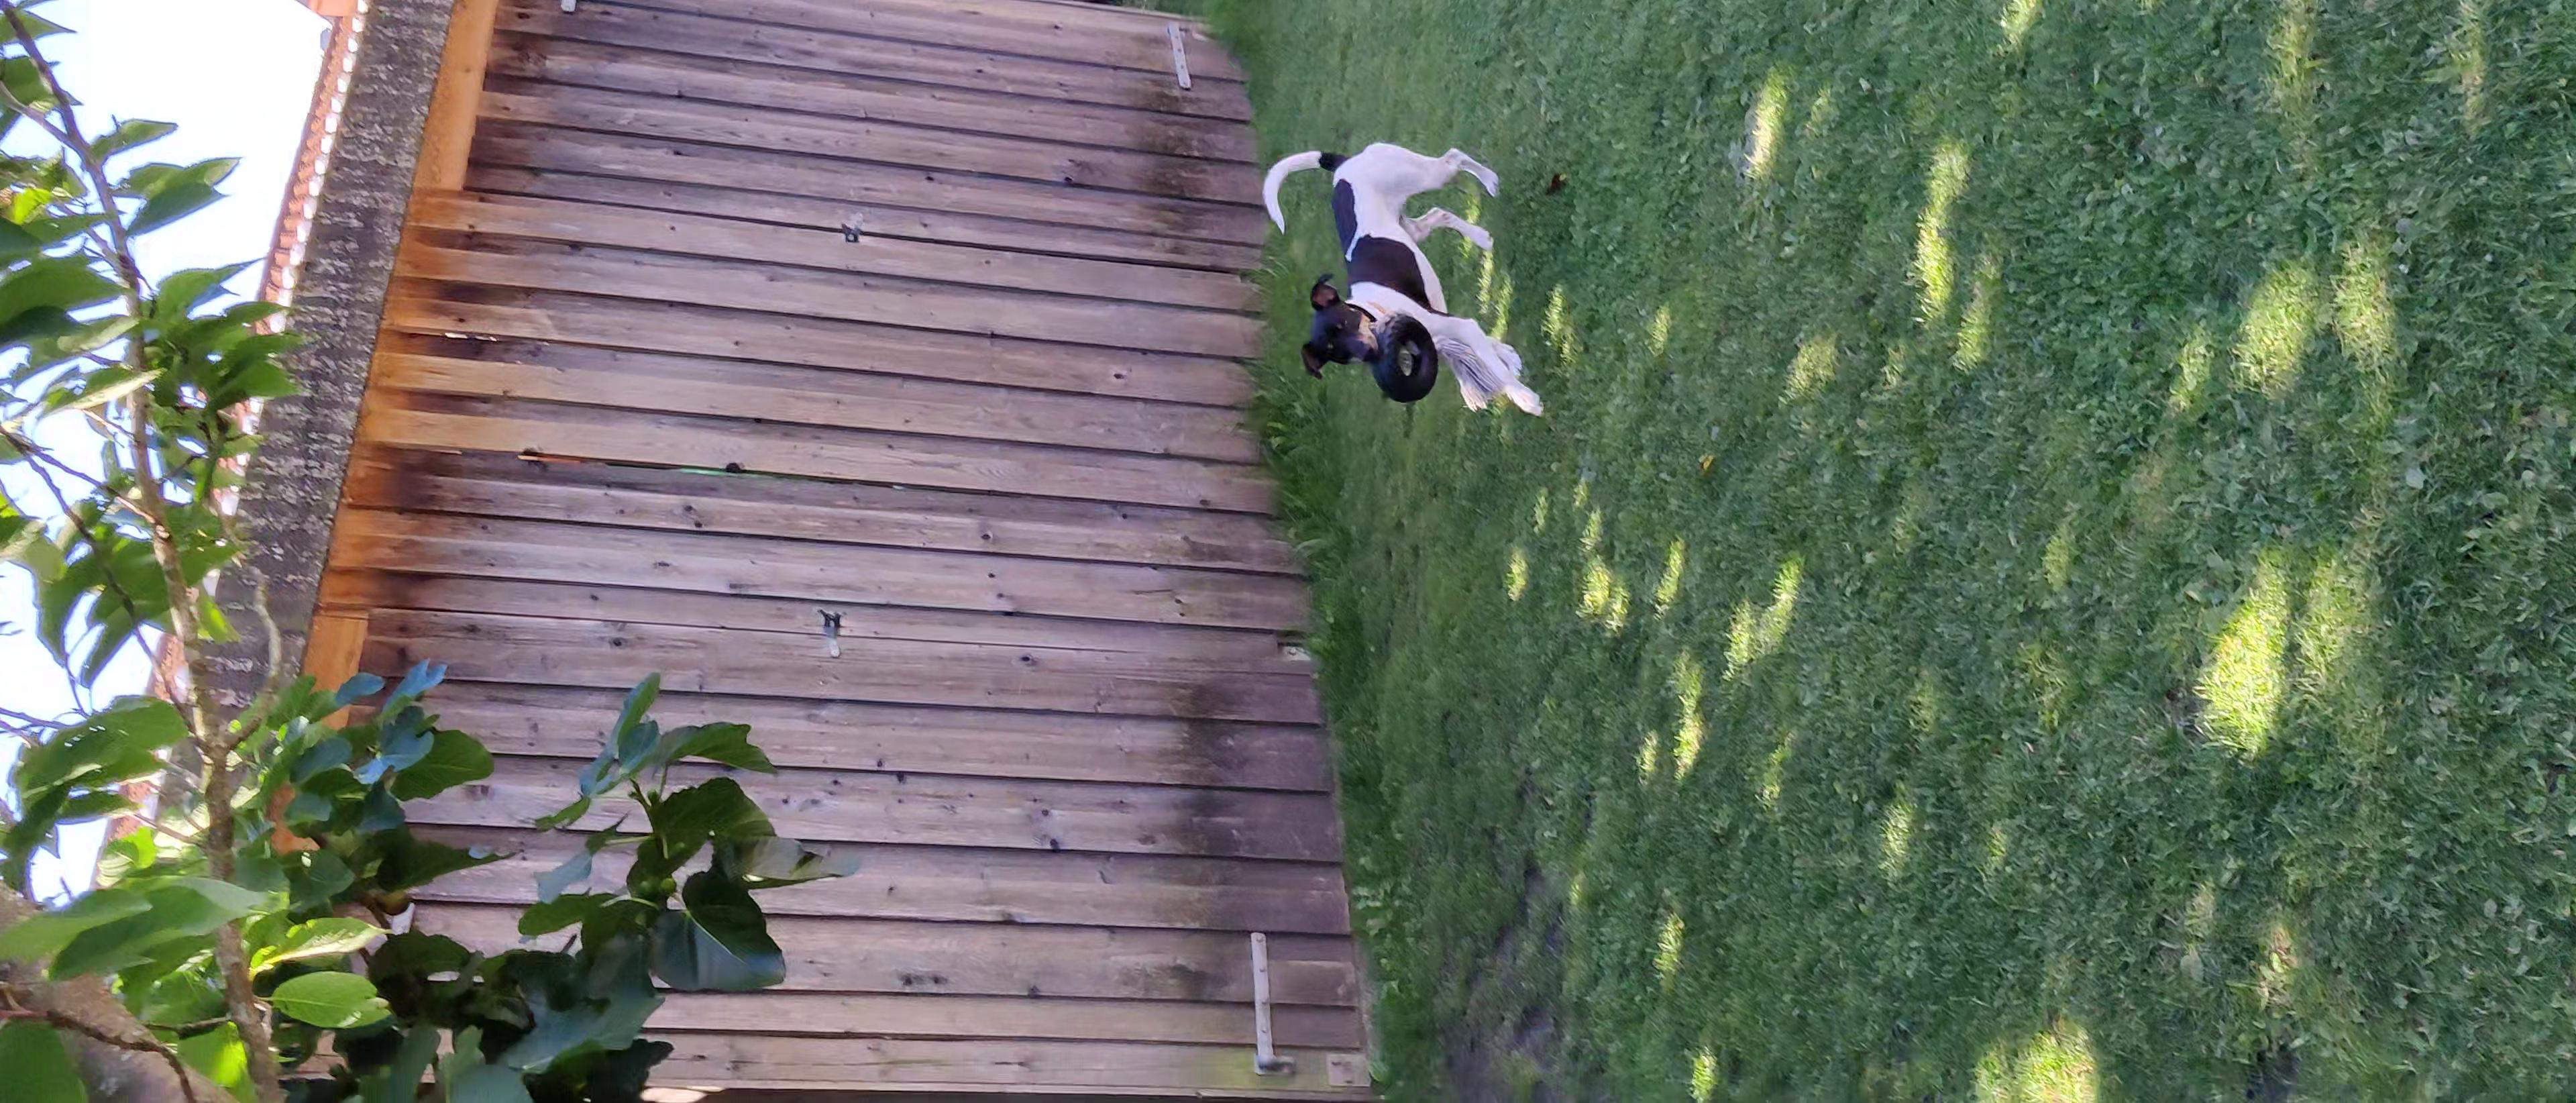Dog: (1237, 128, 1556, 427)
